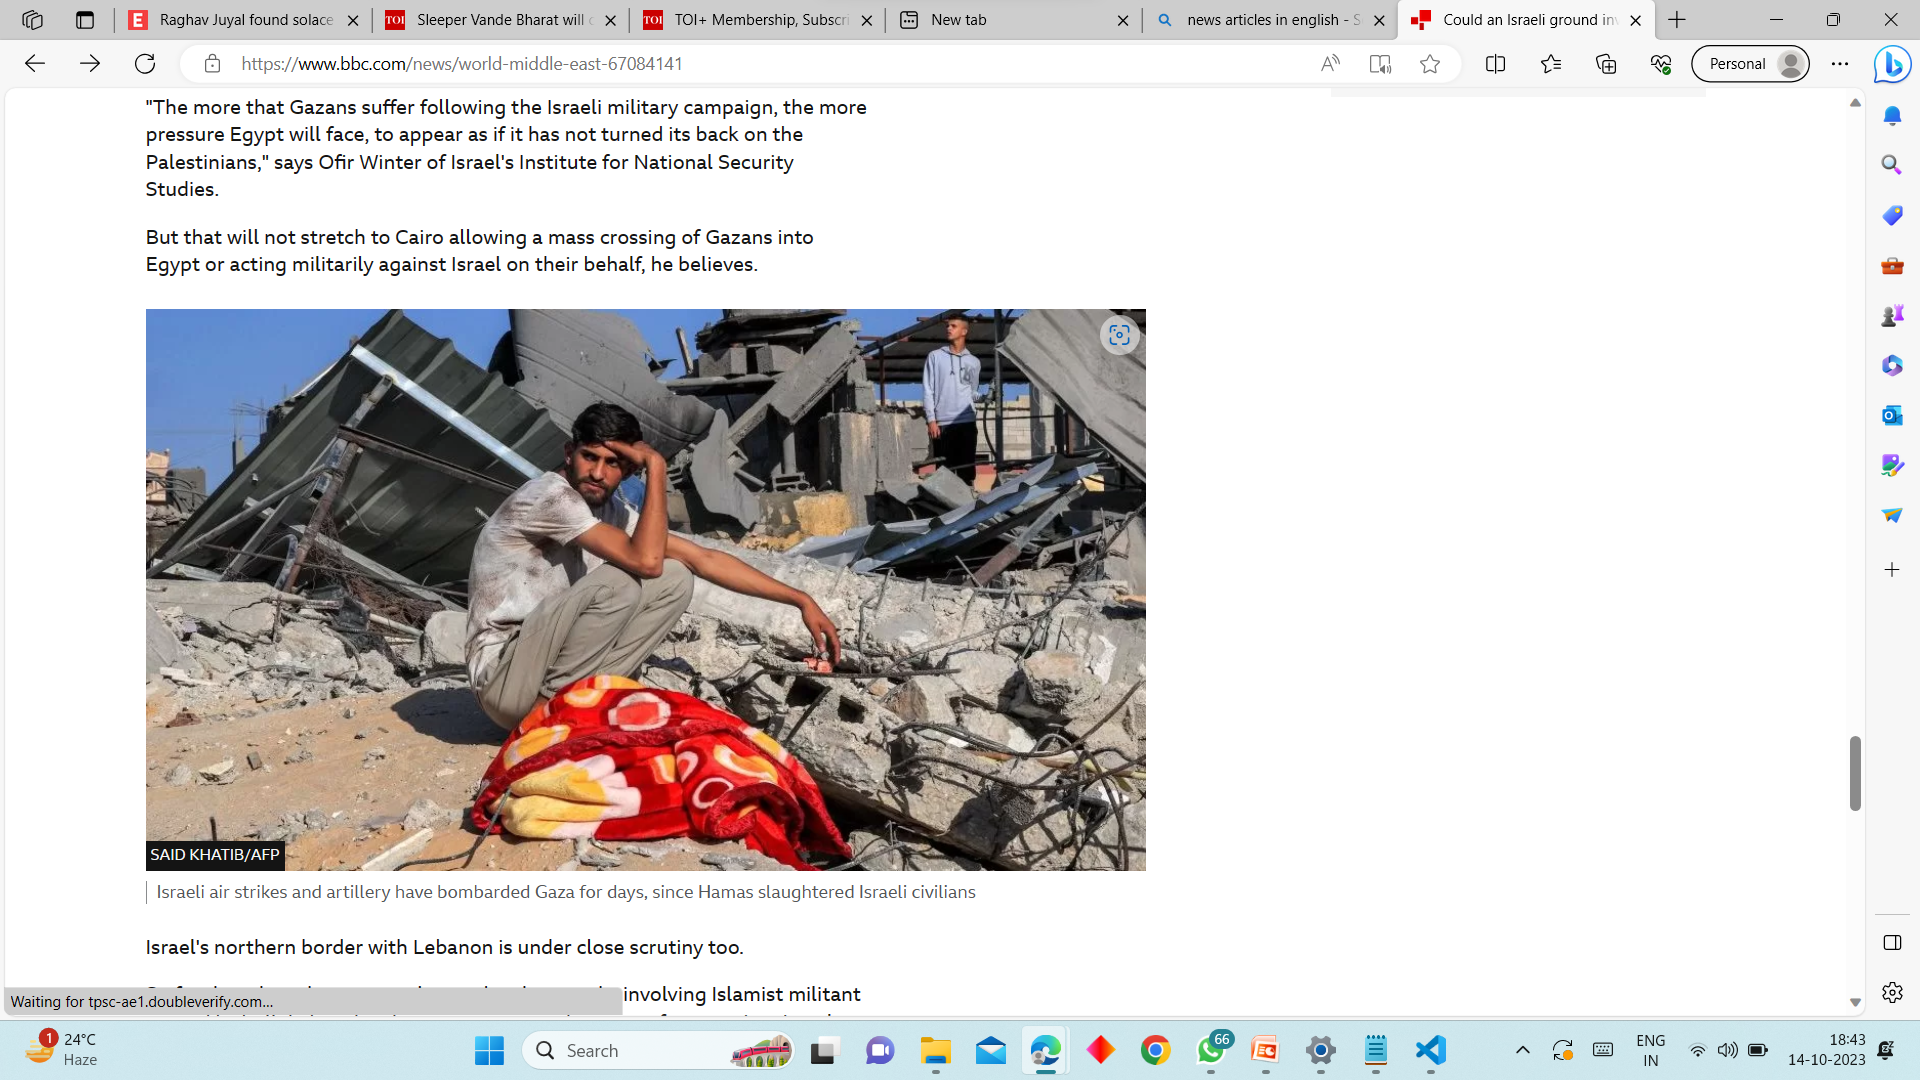Image: (145, 298, 1151, 872)
Paragraph: (138, 92, 910, 208), (144, 225, 820, 289), (132, 916, 778, 964), (152, 878, 1009, 906)
